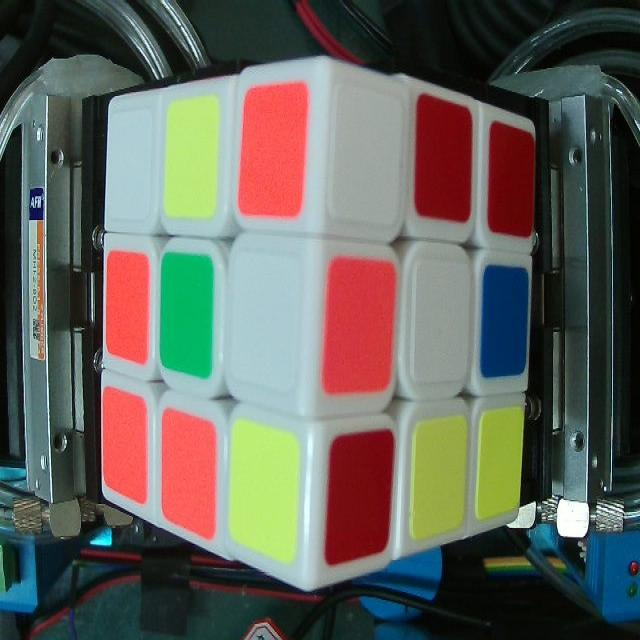b: (485, 268, 526, 370)
g: (161, 260, 213, 378)
o: (332, 261, 390, 384), (245, 89, 300, 211), (163, 423, 214, 531), (103, 402, 146, 495), (107, 255, 146, 355)
r: (332, 446, 390, 551), (417, 107, 472, 217), (491, 126, 533, 230)
w: (336, 91, 398, 224), (239, 259, 295, 383), (414, 259, 471, 379), (108, 117, 150, 217)
y: (232, 439, 297, 556), (168, 106, 214, 214), (416, 431, 465, 528), (482, 419, 519, 508)
